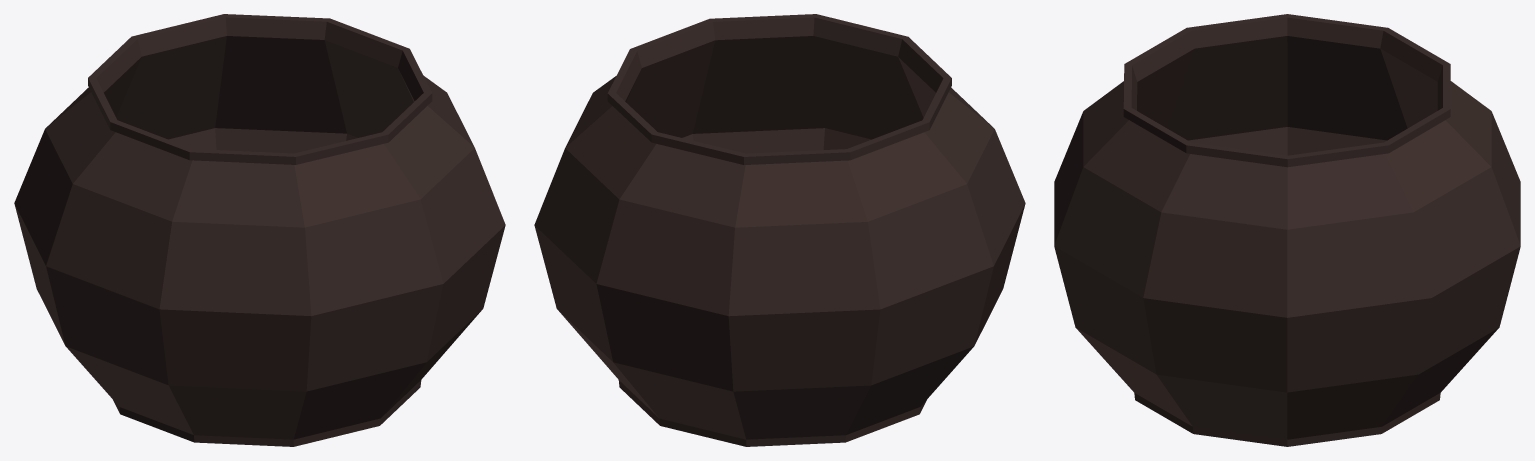
The picture shows the model from 3 angles, left to right: view 1: azimuth 30°, elevation 25°; view 2: azimuth 150°, elevation 25°; view 3: azimuth 270°, elevation 25°; orthographic projection.
Parts seen in each view (by area): view 1: shuigang; view 2: shuigang; view 3: shuigang.
Part boxes in pixels (box(x1,y1,x2,y2)): shuigang: box(14, 14, 505, 446); shuigang: box(534, 14, 1025, 446); shuigang: box(1054, 14, 1520, 446).
Size of the model in its own units: 155 by 102 by 147.
